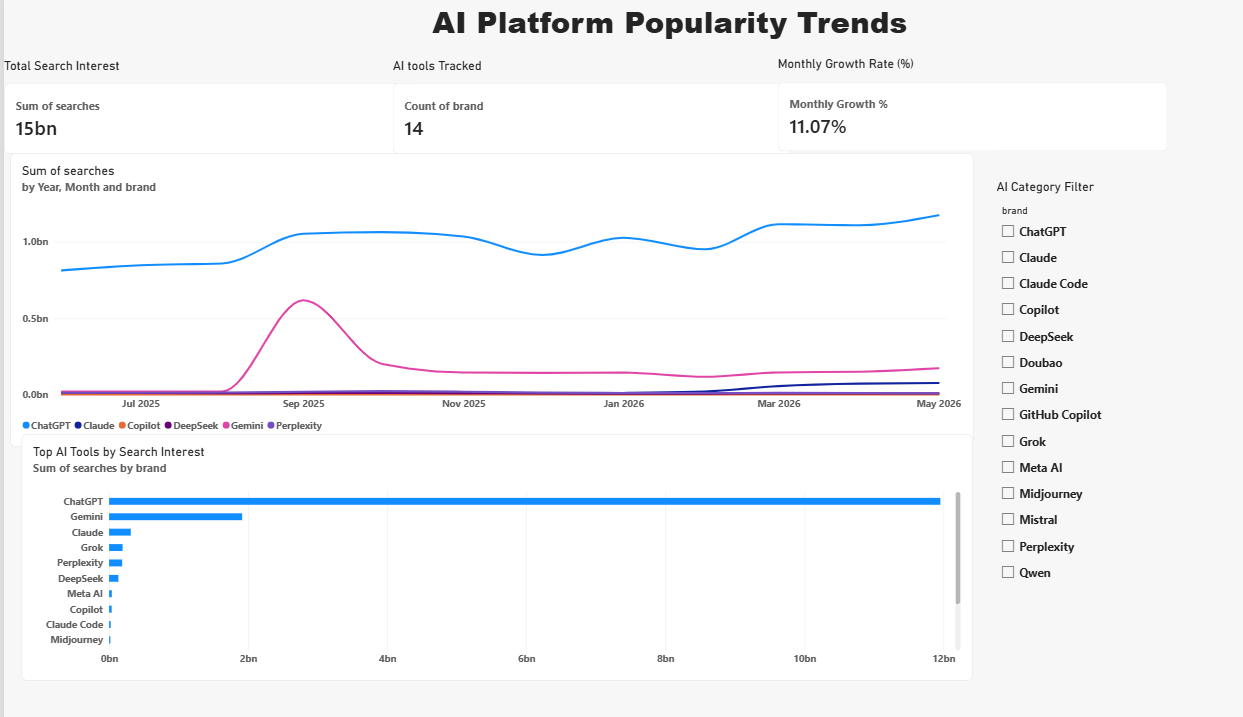

This screenshot's page, from the dashboard's own definition file:
{"tool":"powerbi","page":{"name":"Page 1","canvas":[1920,1080],"ordinal":0},"visuals":[{"type":"lineChart","fields":{"Category":["popularity-ai-monthly.year_month.Variation.Date Hierarchy.Year","popularity-ai-monthly.year_month.Variation.Date Hierarchy.Month"],"Series":["popularity-ai-monthly.brand"],"Y":["Sum(popularity-ai-monthly.searches)"]},"box":[8.6,230.9,1394,425.5],"z":0},{"type":"cardVisual","title":"Total Search Interest","fields":{"Data":["Sum(popularity-ai-monthly.searches)"]},"box":[0,94.1,605.1,139],"z":1},{"type":"cardVisual","title":"AI tools Tracked","fields":{"Data":["Count(popularity-ai-monthly.brand)"]},"box":[562.8,94.1,579.4,139],"z":2},{"type":"clusteredBarChart","title":"Top AI Tools by Search Interest","fields":{"Category":["popularity-ai-monthly.brand"],"Y":["Sum(popularity-ai-monthly.searches)"]},"box":[25.7,639.3,1376.9,357.1],"z":3},{"type":"cardVisual","title":"Monthly Growth Rate (%)","fields":{"Data":["popularity-ai-monthly.Monthly Growth %"]},"box":[1120.2,92.3,564.5,136.8],"z":4},{"type":"slicer","title":"AI Category Filter","fields":{"Values":["popularity-ai-monthly.brand"]},"box":[1436.8,269.4,455.4,598.7],"z":5},{"type":"textbox","box":[6.4,10.7,1913.6,164.6],"z":6}]}

Visuals, with their boxes in screenshot pixels (x1, y1, x2, y2), scaled from the page's 1920x1080 canvas onto the 1243x717 screenshot:
lineChart - popularity-ai-monthly.year_month.Variation.Date Hierarchy.Year x popularity-ai-monthly.year_month.Variation.Date Hierarchy.Month: 6, 153, 908, 436
"Total Search Interest" cardVisual: 0, 62, 392, 155
"AI tools Tracked" cardVisual: 364, 62, 739, 155
"Top AI Tools by Search Interest" clusteredBarChart: 17, 424, 908, 661
"Monthly Growth Rate (%)" cardVisual: 725, 61, 1091, 152
"AI Category Filter" slicer: 930, 179, 1225, 576
textbox: 4, 7, 1242, 116
